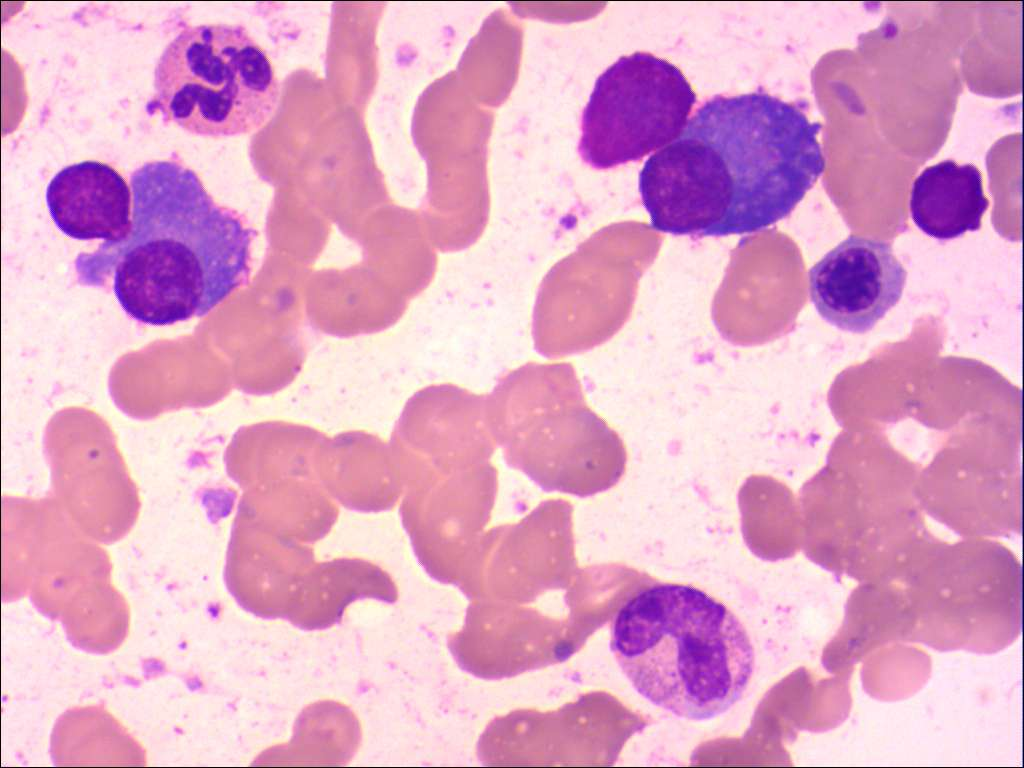24: (806, 231, 911, 337)
5: (607, 581, 760, 724)
51: (73, 158, 262, 329), (636, 82, 831, 243)
6: (144, 18, 285, 140)
x: (574, 46, 701, 173), (40, 156, 136, 246), (907, 157, 993, 243)
